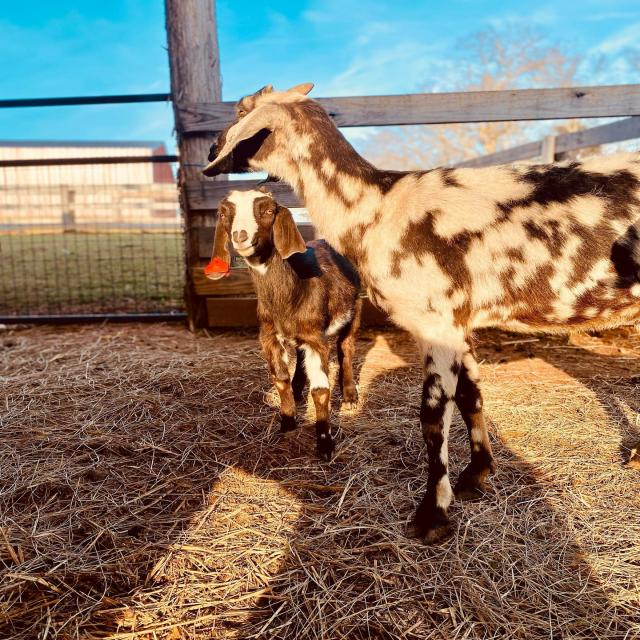goat: (171, 72, 640, 535), (206, 182, 390, 462)
